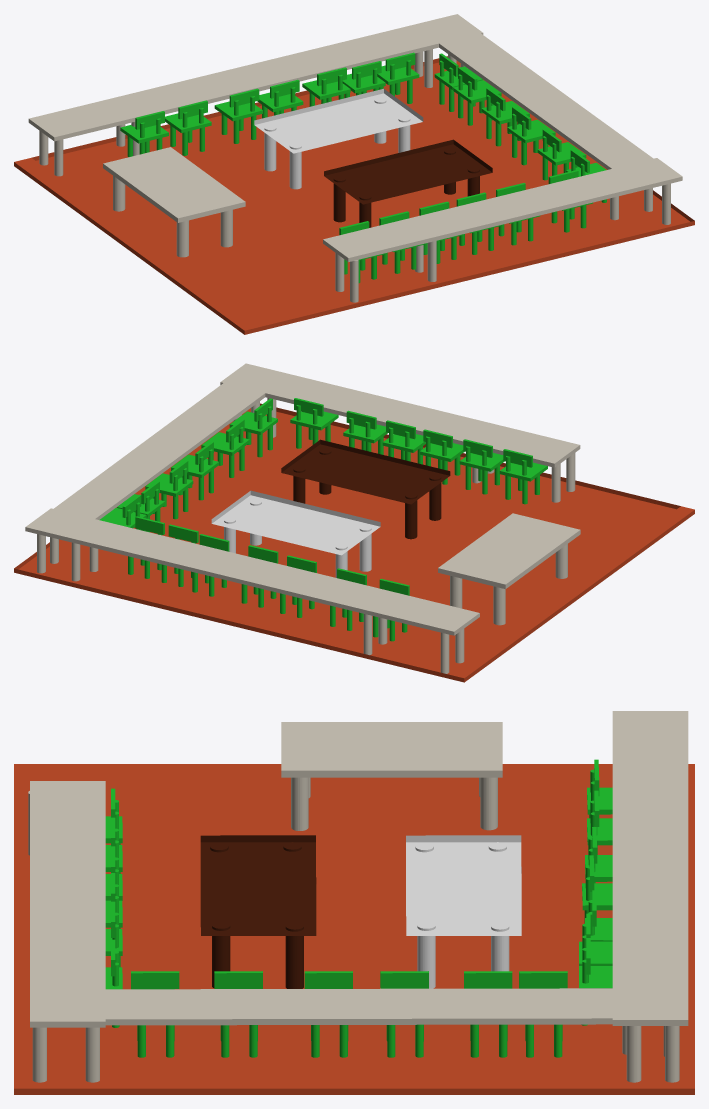
File: info3.glb
The picture shows the model from 3 angles, top to bottom: view 1: azimuth 30°, elevation 25°; view 2: azimuth 150°, elevation 25°; view 3: azimuth 270°, elevation 25°; orthographic projection. The views are drawn at different scales.
Parts seen in each view (by area): view 1: suelo, Cylinder.004, mesa.001, mesa_profesor, mesa, silla.014, silla.015, silla.016, silla.005, silla.002, silla.003, silla.004 (+12 smaller); view 2: suelo, Cylinder.004, mesa, mesa_profesor, mesa.001, silla.013, silla.012, silla.008, silla.011, silla.006, silla.009, silla.007 (+12 smaller); view 3: suelo, Cylinder.004, mesa_profesor, mesa, mesa.001, silla.007, silla.004, silla.003, silla.005, silla.006, silla.018, silla.1 (+8 smaller).
Part boxes in pixels (x1,y1,x2,y2): suelo: [14, 56, 694, 334]; Cylinder.004: [28, 14, 682, 302]; mesa.001: [254, 88, 423, 189]; mesa_profesor: [103, 147, 245, 257]; mesa: [324, 139, 492, 227]; silla.014: [214, 88, 262, 143]; silla.015: [165, 100, 211, 155]; silla.016: [120, 111, 168, 156]; silla.005: [507, 106, 555, 165]; silla.002: [377, 52, 419, 103]; silla.003: [453, 67, 501, 125]; silla.004: [481, 88, 529, 146]; suelo: [14, 403, 694, 682]; Cylinder.004: [25, 363, 580, 673]; mesa: [281, 439, 450, 539]; mesa_profesor: [438, 513, 580, 625]; mesa.001: [211, 490, 380, 577]; silla.013: [499, 449, 547, 504]; silla.012: [459, 439, 504, 494]; silla.008: [290, 398, 338, 448]; silla.011: [420, 429, 464, 484]; silla.006: [201, 419, 249, 477]; silla.009: [343, 410, 387, 454]; silla.007: [229, 398, 277, 457]; suelo: [14, 764, 694, 1094]; Cylinder.004: [28, 711, 688, 1082]; mesa_profesor: [281, 722, 502, 830]; mesa: [200, 835, 316, 988]; mesa.001: [406, 835, 521, 988]; silla.007: [131, 971, 179, 1057]; silla.004: [380, 971, 428, 1057]; silla.003: [464, 971, 512, 1057]; silla.005: [304, 971, 352, 1057]; silla.006: [214, 971, 262, 1057]; silla.018: [519, 971, 567, 1057]; silla.1: [582, 855, 612, 923].
Size of the model in its own units: 31.75 by 3.56 by 28.16.
